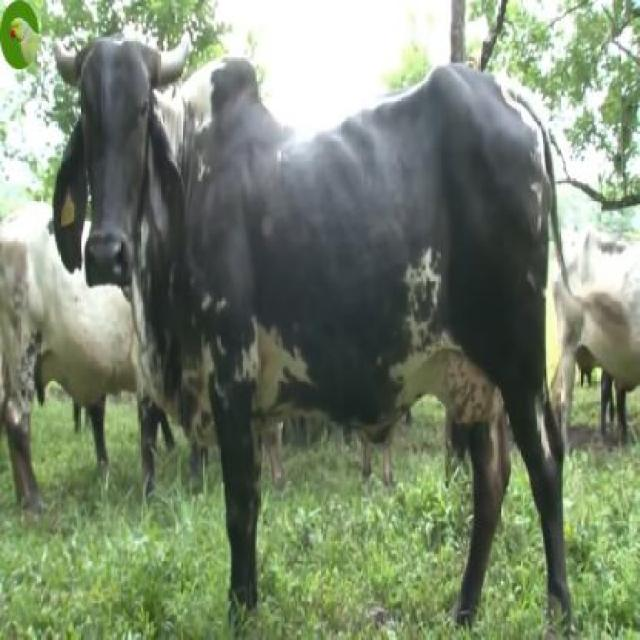Cow: (55, 36, 571, 638)
